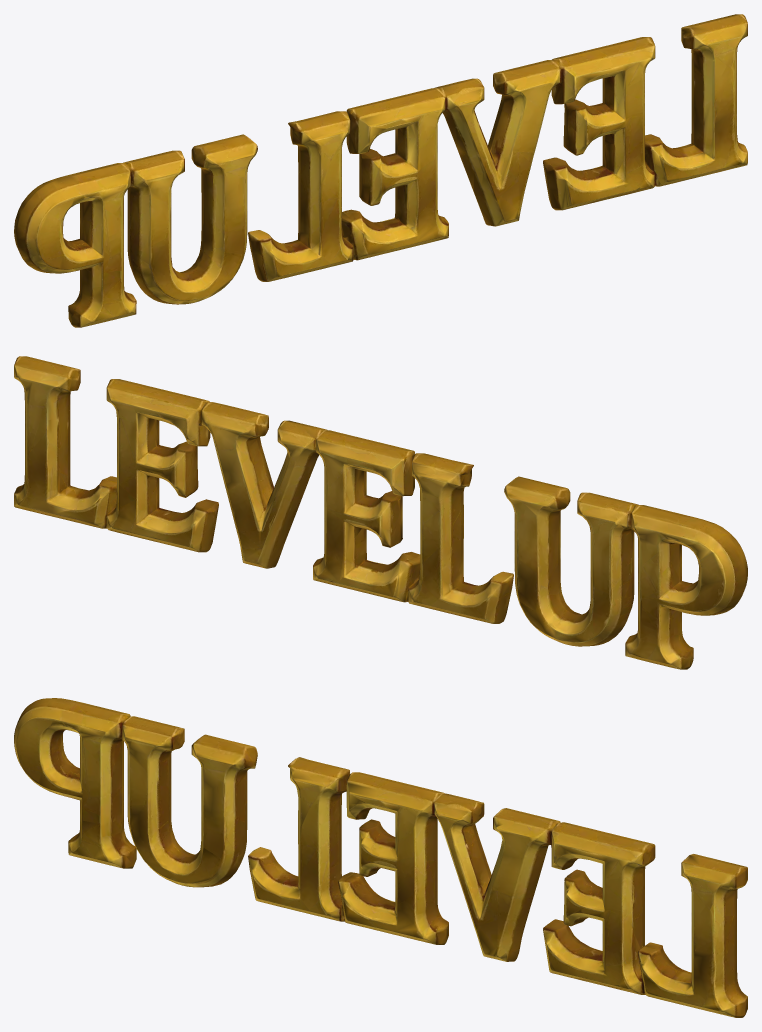
File: level-up.glb
3 renders of one model, top to bottom at view 1: azimuth 30°, elevation 25°; view 2: azimuth 150°, elevation 25°; view 3: azimuth 330°, elevation 25°, orthographic.
Bounding box in the file's own units: 1.9 × 0.3846 × 0.0962.
Materials: 1 (1 with a texture image).
